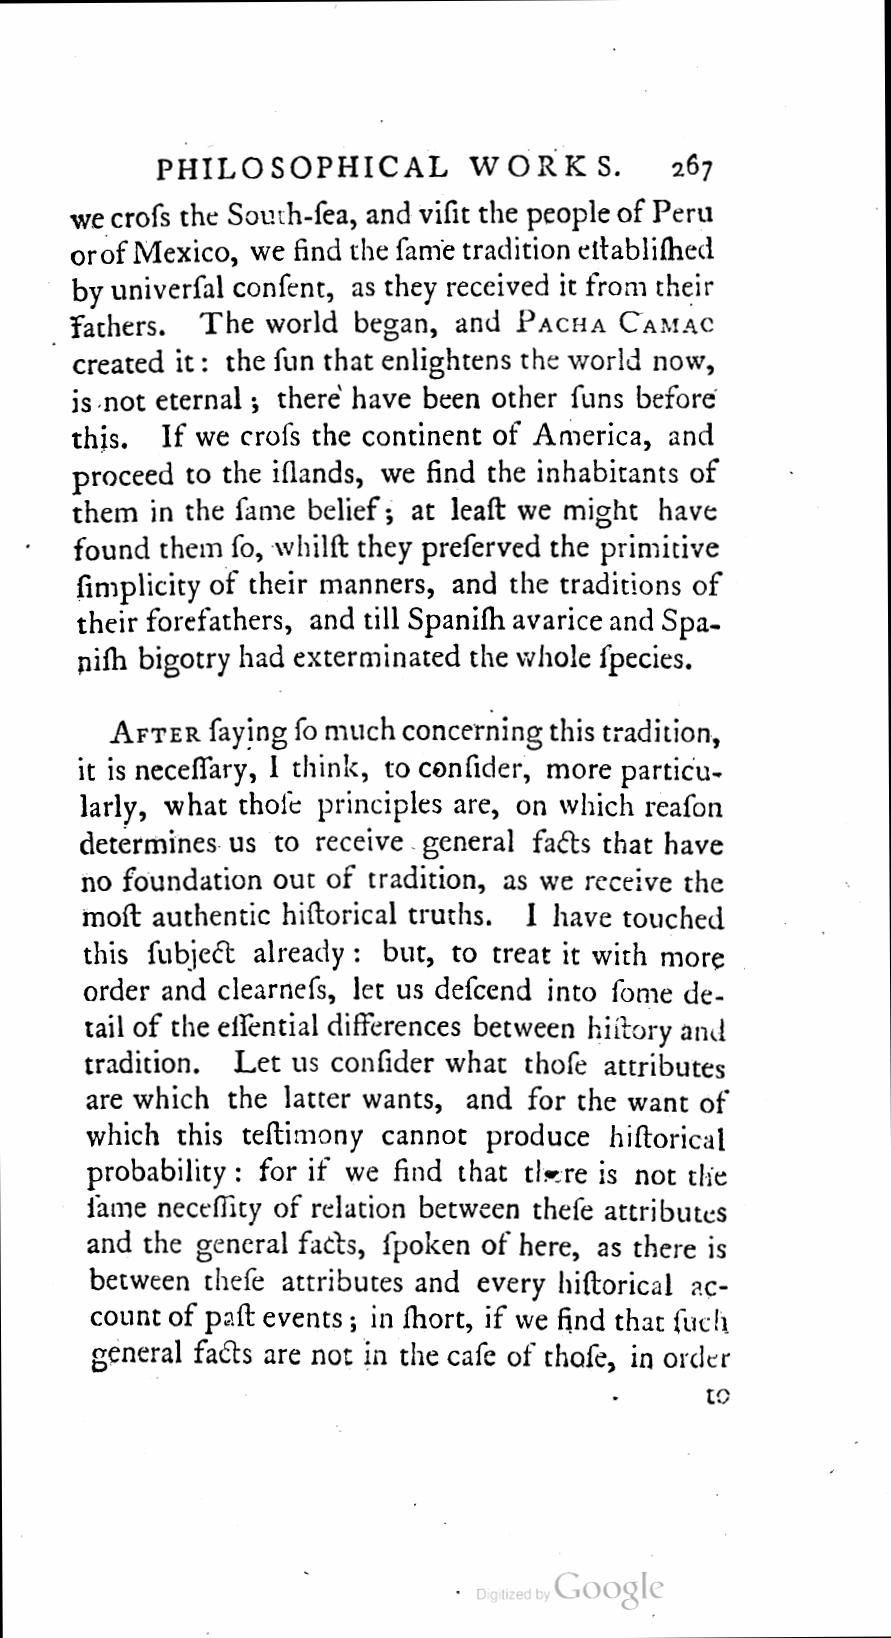bottom_p: (63, 200, 728, 676)
catchword: (688, 1374, 740, 1417)
header: (153, 152, 625, 182)
page_num: (662, 150, 718, 182)
top_p: (76, 714, 740, 1376)
